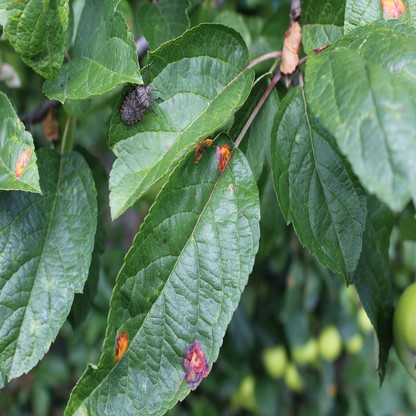rust: (183, 342, 209, 383), (14, 148, 32, 176), (379, 0, 407, 18), (196, 139, 213, 161), (217, 145, 230, 173), (115, 331, 127, 359), (313, 44, 330, 52), (327, 383, 334, 395)
